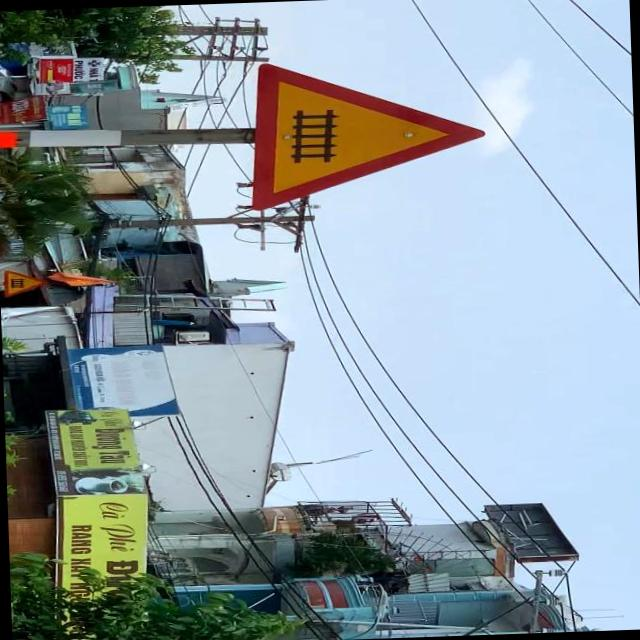W-210: (248, 52, 490, 212)
